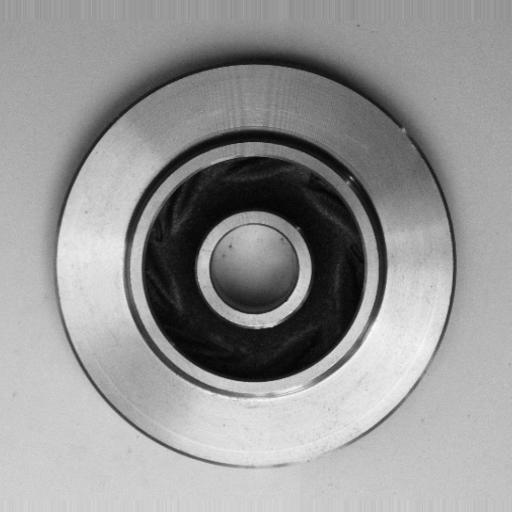unpolished_casting: (49, 54, 462, 472)
